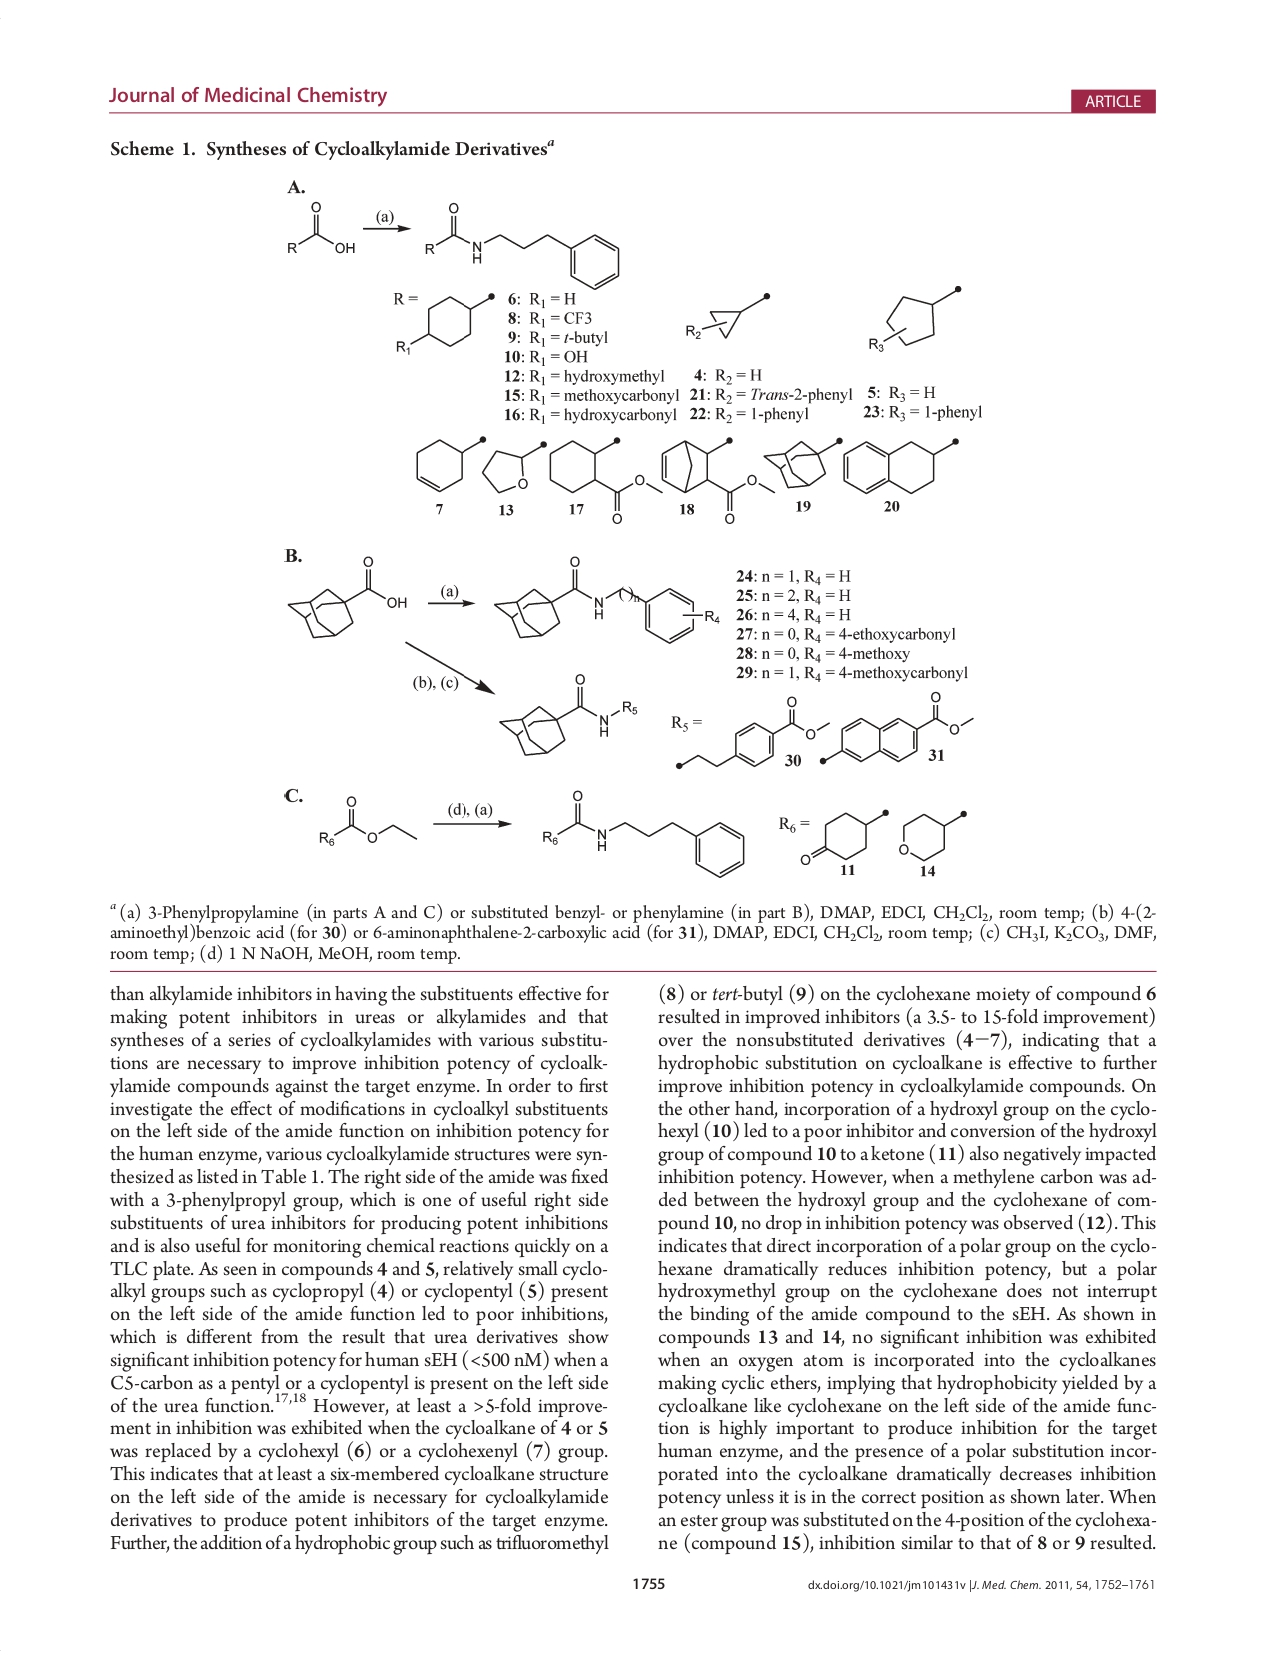exist_molecular: (491, 555, 723, 645), (541, 783, 747, 882), (422, 198, 625, 291), (673, 694, 832, 771), (817, 690, 976, 767), (497, 672, 641, 755), (545, 434, 662, 527), (285, 555, 410, 641), (660, 436, 778, 527), (860, 277, 964, 360), (840, 436, 963, 497), (395, 290, 501, 356), (315, 789, 418, 852), (672, 286, 781, 346), (797, 806, 890, 868), (762, 434, 844, 491), (414, 434, 485, 493), (286, 198, 355, 259), (479, 438, 549, 496), (898, 809, 969, 863)
